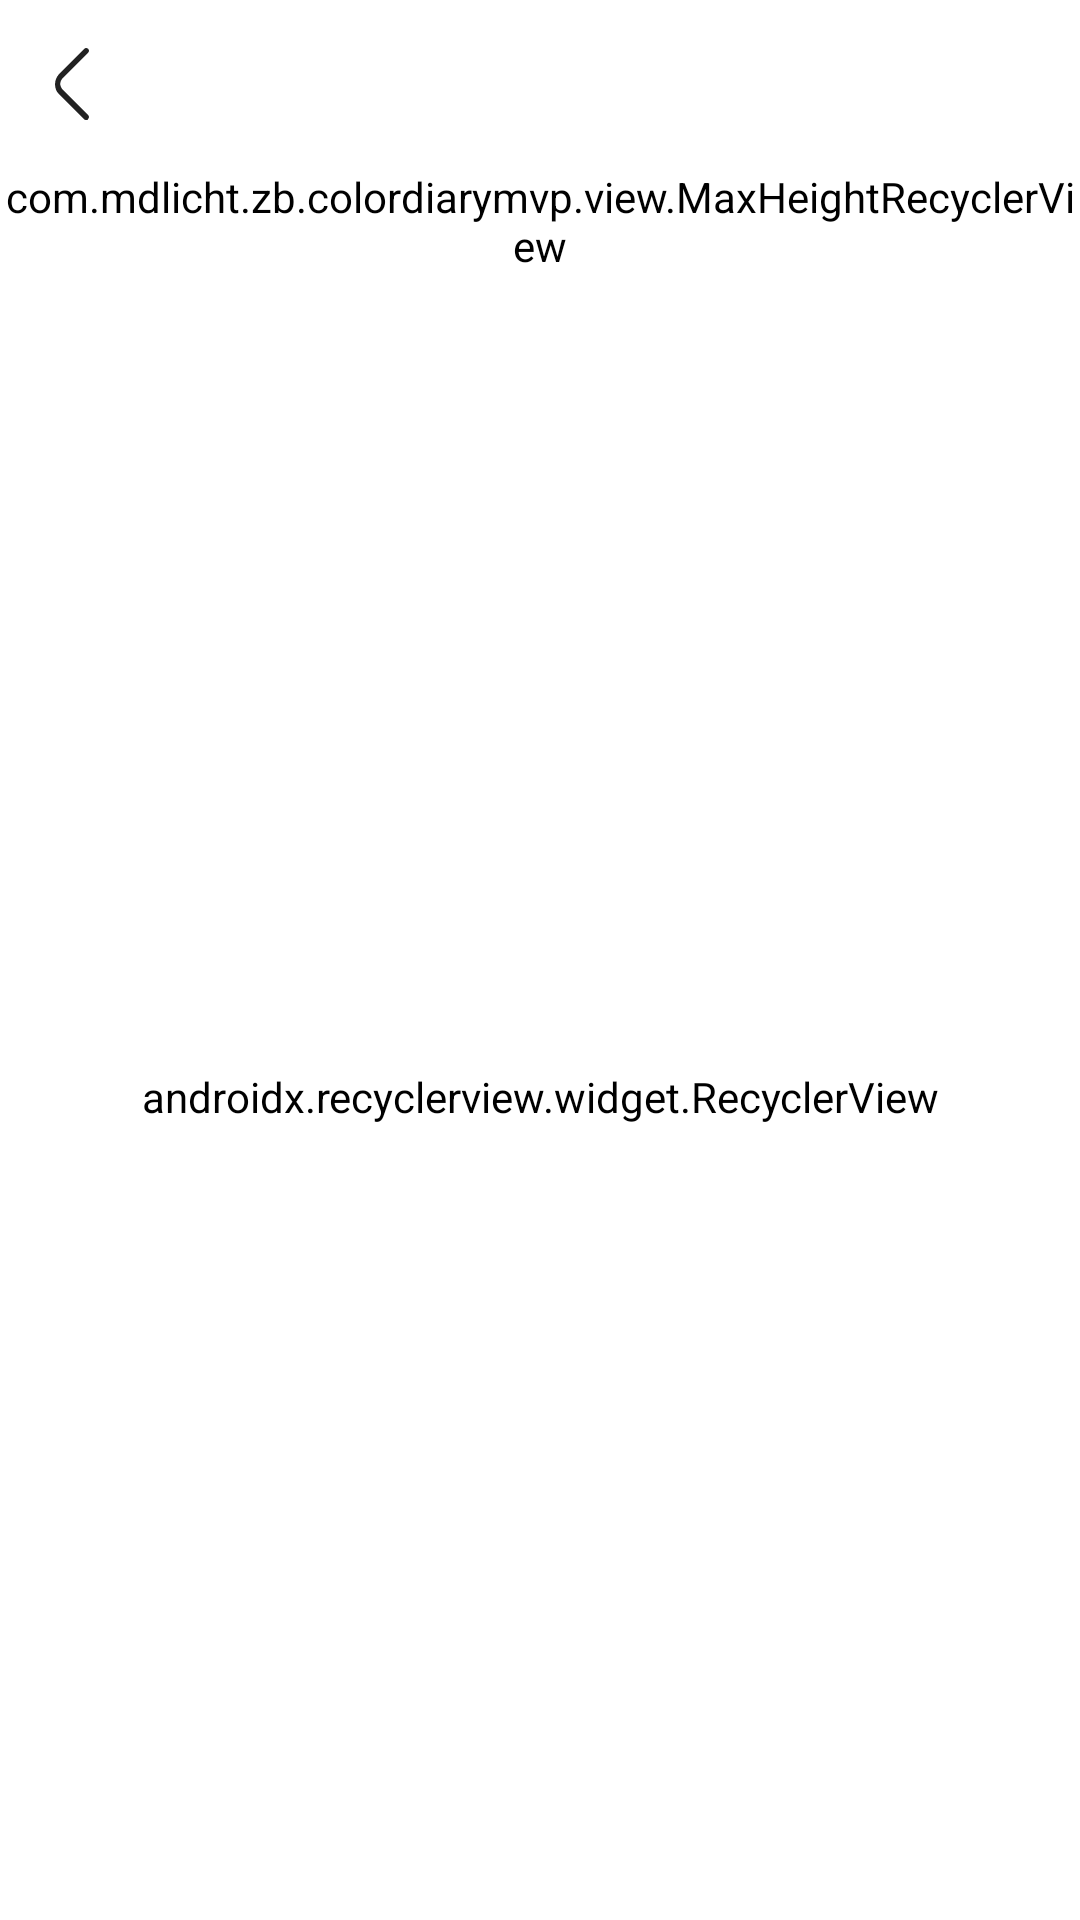

Named icons in this screenshot (1080*1920) and their centers, [x,y]:
back: [72,84]
